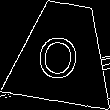O_N: (38, 24, 86, 81)
